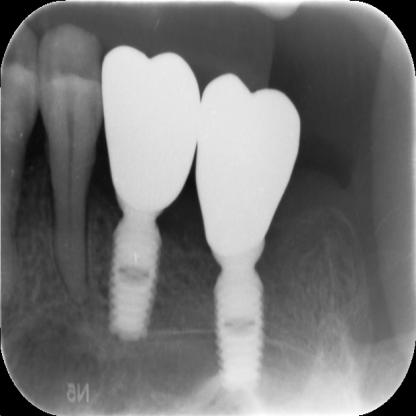Bicon: (204, 252, 268, 402), (104, 218, 166, 348)
